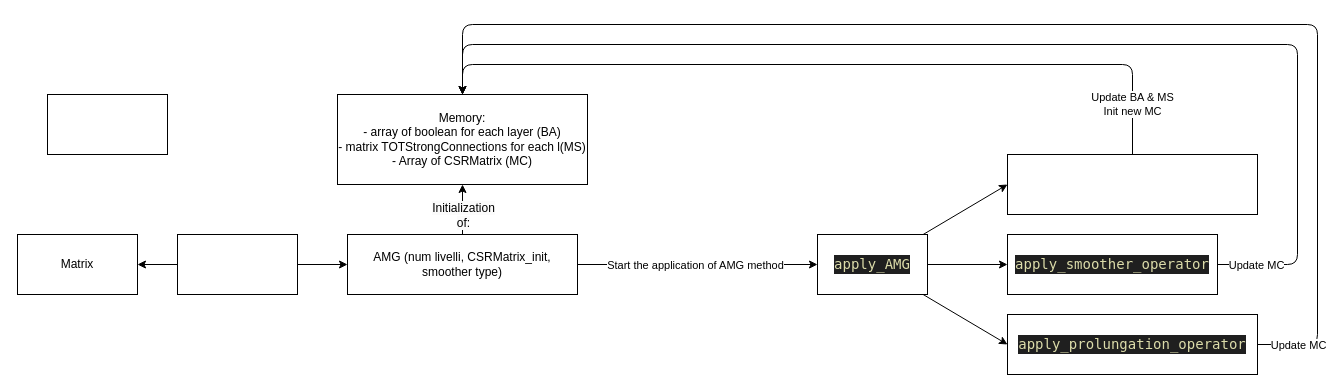
The diagram is 1343 pixels wide and 392 high, and some of its shapes have lost their labels. The shapes that lost their labels are listed below. From the top down, each one's centre as x and y in pixels, then its label:
At point (107, 124): "TriangularMesh".
At point (1132, 184): "apply_restriction_operator".
At point (237, 264): "CSRMatrix".
